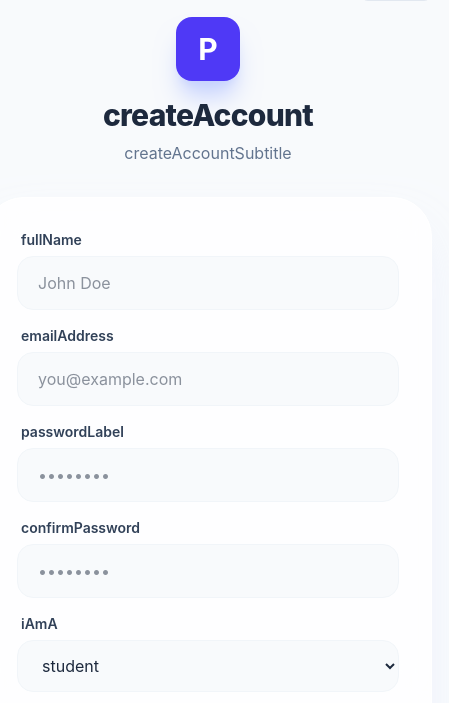
Test: Preservation Property Tests - Authentication Flow and Dashboard Functionality › Property 2: Signup Form Validation - Password Length Check Works › Test 1: Should validate password confirmation match
The width and height of the screenshot is (449, 703).
In the field labelled "fullName": (208, 283) [17,256,399,310], type "Test User"
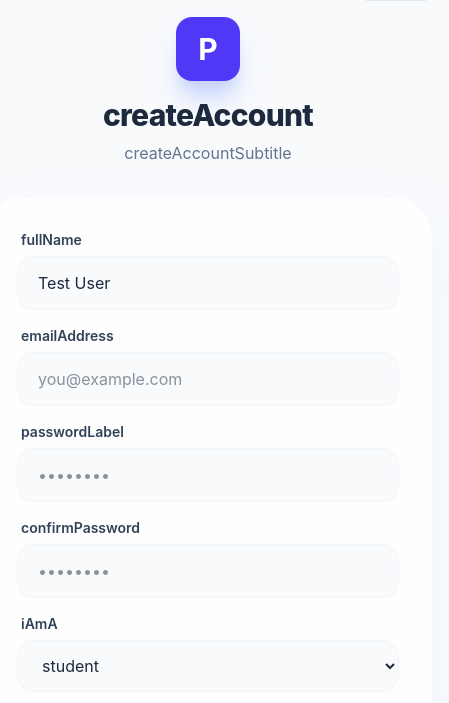
In the field labelled "emailAddress": (208, 379) [17,352,399,406], type "test@example.com"
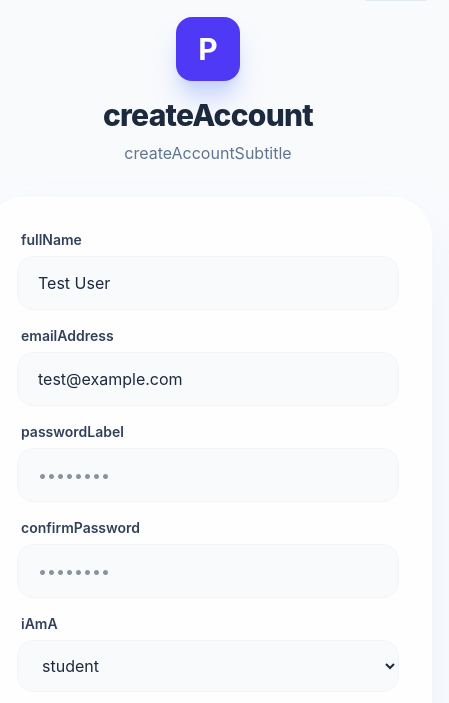
In the password field labelled "passwordLabel": (208, 475) [17,448,399,502], type "password123"
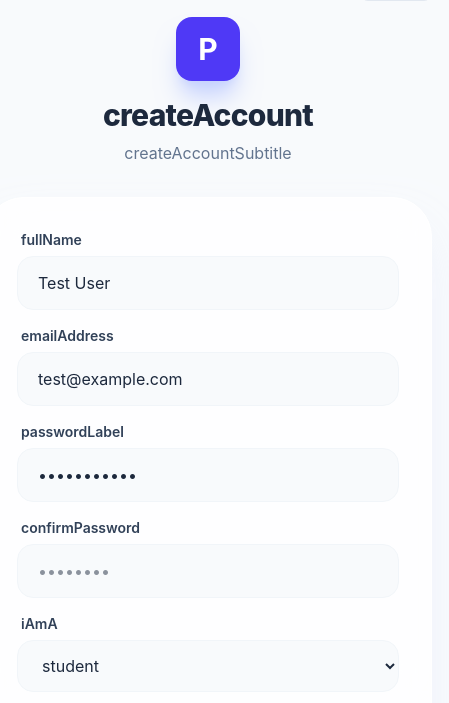
In the password field labelled "confirmPassword": (208, 571) [17,544,399,598], type "different456"
(page scrolled)
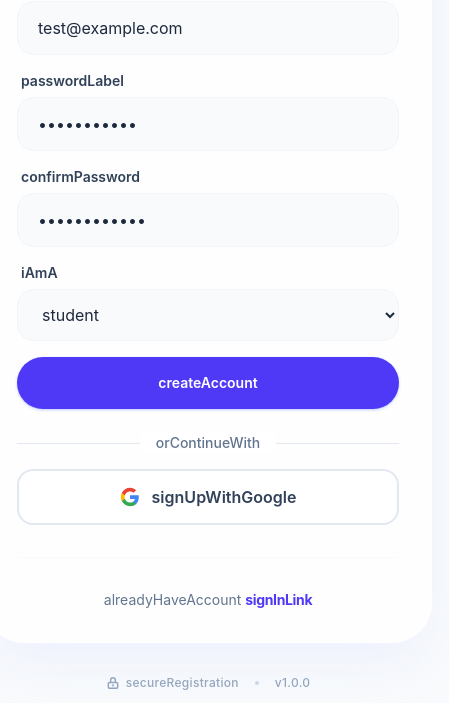
Click the button "createAccount": (208, 383) [17,357,399,409]
(page scrolled)
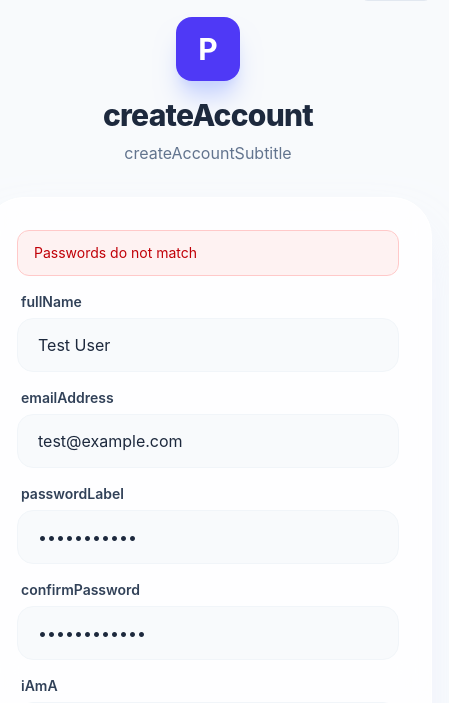
expect the text "Passwords do not match" is shown: met, box [17,230,399,276]
